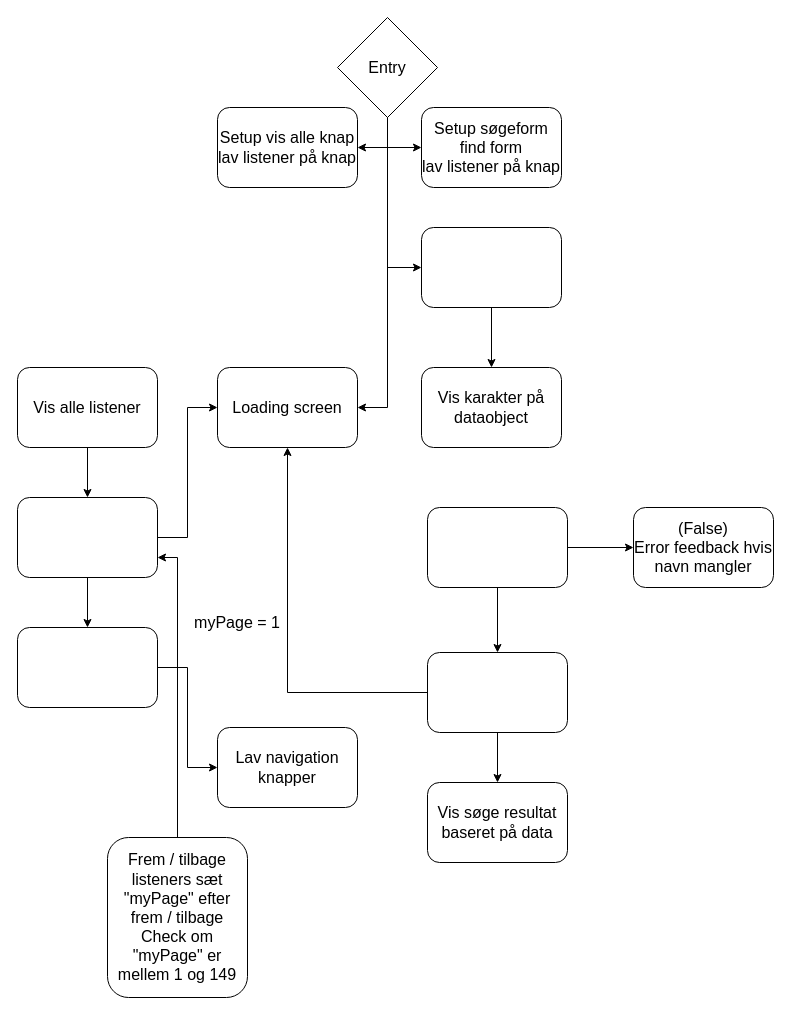
The diagram is 791 pixels wide and 1015 high, and some of its shapes have lost their labels. Each missing label, with the centre of its shape:
"(True) Fetch ud fra navn Brug filter endpoint" belongs at pixel 497 692.
"Fetch data baseret på myPage" belongs at pixel 87 537.
"Fetch karakter baseret på ID" belongs at pixel 491 267.
"Søg listener Valider at der er søgenavn" belongs at pixel 497 547.
"Vis side ud fra data" belongs at pixel 87 667.
